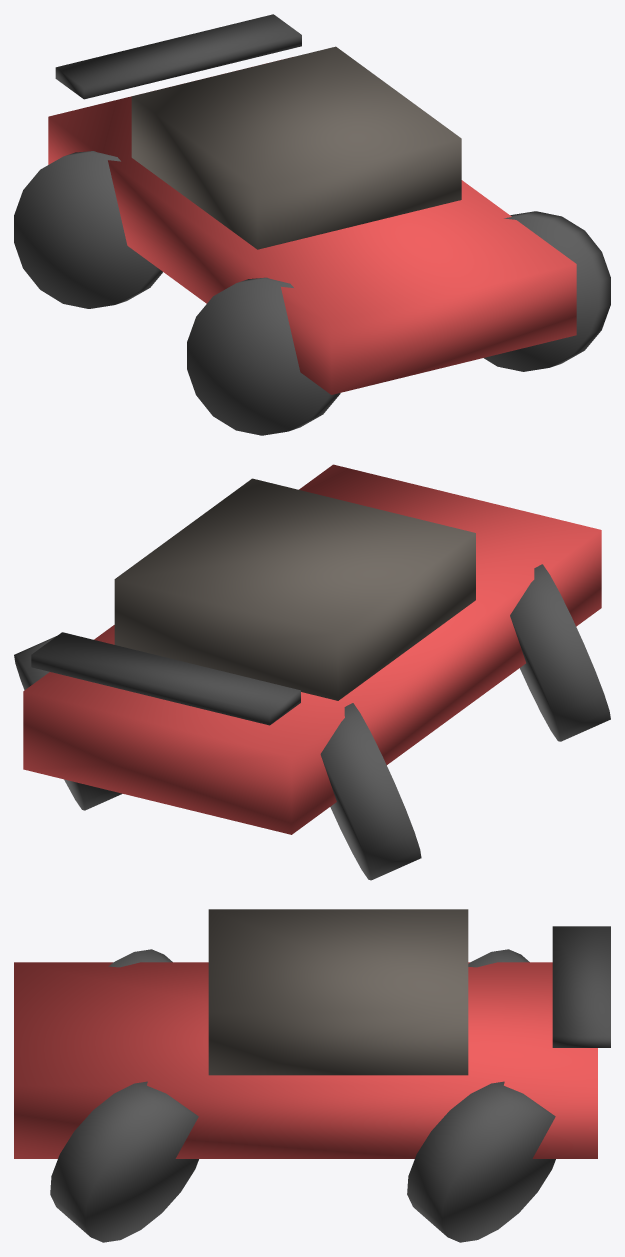
Rendered from sports_car.glb.
3 renders of one model, top to bottom at view 1: azimuth 30°, elevation 25°; view 2: azimuth 150°, elevation 25°; view 3: azimuth 270°, elevation 25°, orthographic. The views are drawn at different scales.
Visible parts, largest first — view 1: body, cabin, wheel_-0.48_0.55, wheel_-0.48_-0.55, spoiler, wheel_0.48_0.55; view 2: body, cabin, spoiler, wheel_-0.48_-0.55, wheel_-0.48_0.55, wheel_0.48_-0.55; view 3: body, cabin, wheel_0.48_0.55, wheel_0.48_-0.55, spoiler, wheel_-0.48_0.55, wheel_-0.48_-0.55.
Boxes of the visible parts, x1,y1,x2,y2 form: body: (48,57,576,394); cabin: (131,46,461,249); wheel_-0.48_0.55: (187,277,340,435); wheel_-0.48_-0.55: (14,151,162,308); spoiler: (55,14,301,99); wheel_0.48_0.55: (484,211,610,371); body: (23,464,601,834); cabin: (114,478,475,700); spoiler: (31,632,300,725); wheel_-0.48_-0.55: (320,703,421,880); wheel_-0.48_0.55: (510,564,610,741); wheel_0.48_-0.55: (14,636,122,810); body: (14,962,597,1158); cabin: (208,909,468,1075); wheel_0.48_0.55: (50,1081,198,1242); wheel_0.48_-0.55: (407,1081,555,1242); spoiler: (552,926,610,1047); wheel_-0.48_0.55: (108,949,172,967); wheel_-0.48_-0.55: (468,949,529,967).
Size of the model in its own units: 1.44 by 0.7215 by 1.84.
